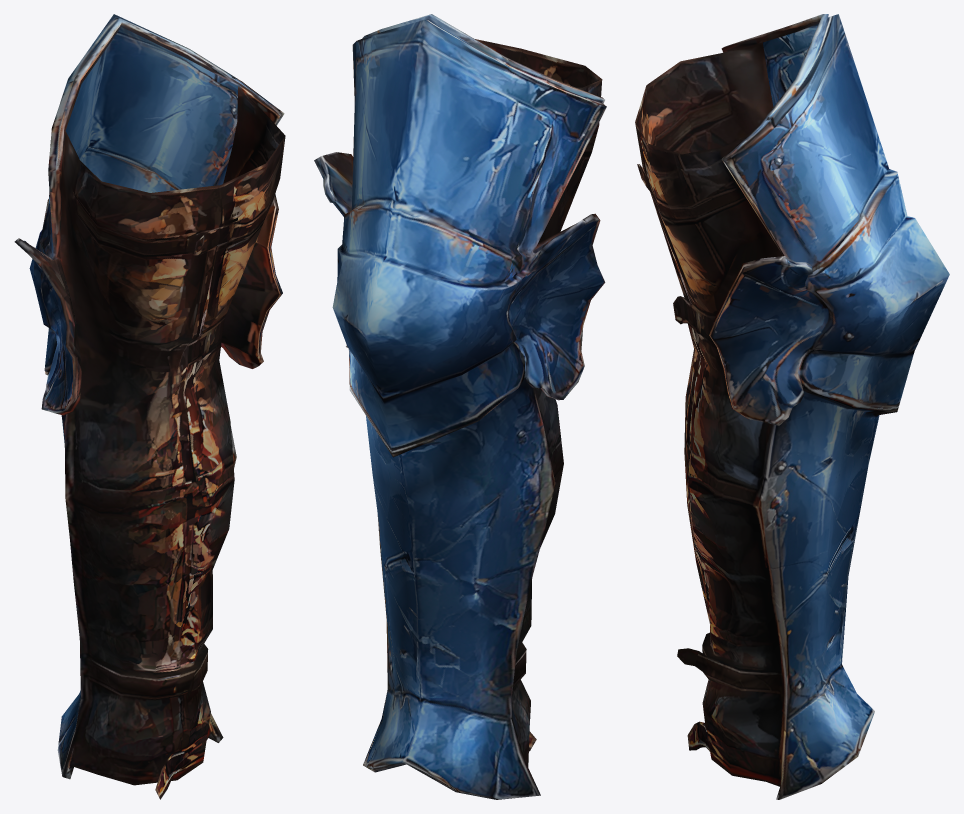
File: greave.glb
The picture shows the model from 3 angles, left to right: view 1: azimuth 30°, elevation 25°; view 2: azimuth 150°, elevation 25°; view 3: azimuth 270°, elevation 25°; orthographic projection. The views are drawn at different scales.
Parts seen in each view (by area): view 1: tripo_node_31c9d77d-4a21-499f-b021-d60d1802f4ca; view 2: tripo_node_31c9d77d-4a21-499f-b021-d60d1802f4ca; view 3: tripo_node_31c9d77d-4a21-499f-b021-d60d1802f4ca.
Boxes of the visible parts, left/top/right/bottom form: tripo_node_31c9d77d-4a21-499f-b021-d60d1802f4ca: left=14, top=14, right=285, bottom=799; tripo_node_31c9d77d-4a21-499f-b021-d60d1802f4ca: left=314, top=14, right=606, bottom=799; tripo_node_31c9d77d-4a21-499f-b021-d60d1802f4ca: left=635, top=14, right=949, bottom=799.
Size of the model in its own units: 0.3638 by 0.9995 by 0.3804.
1 material, 1 textured.
